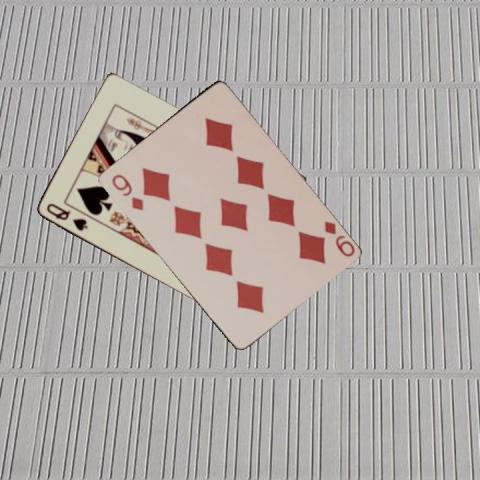9d: (108, 171, 145, 212), (320, 217, 356, 259)
Qs: (42, 200, 88, 233)
